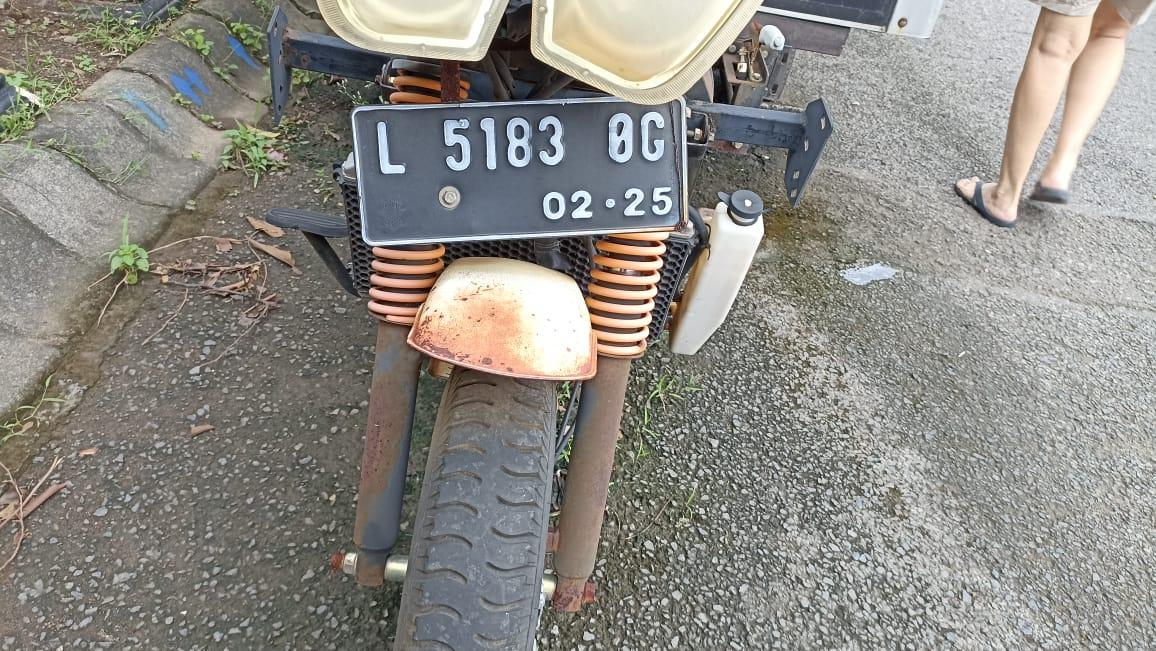plat: (352, 97, 686, 246)
